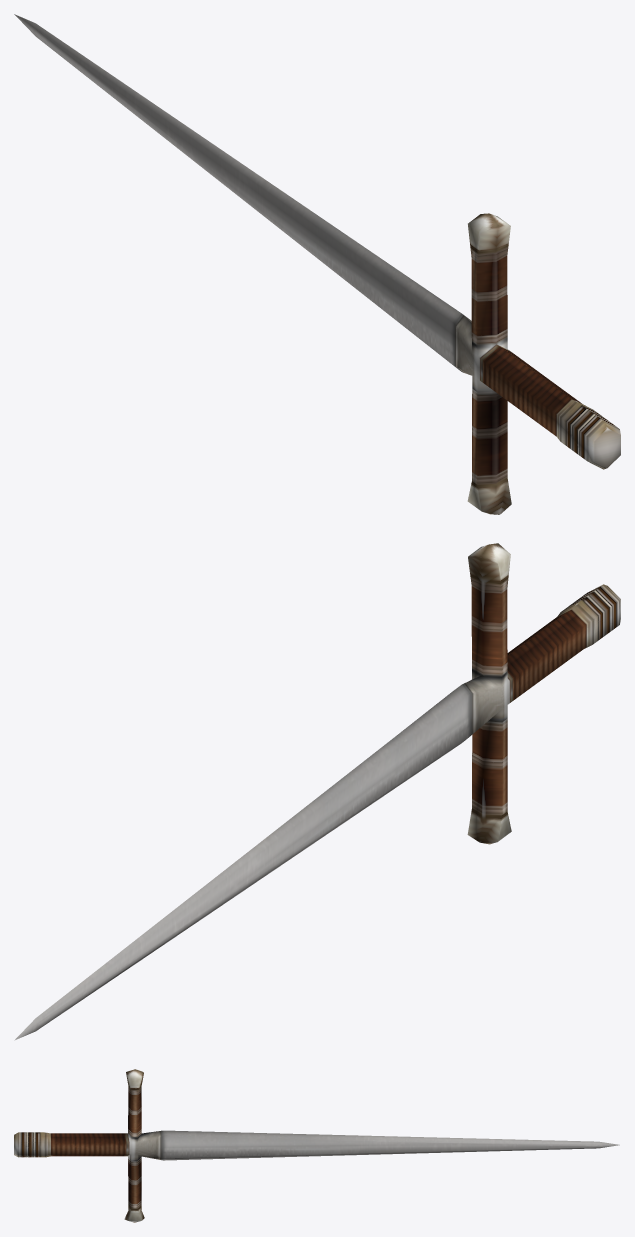
Rendered from sword.obj.
3 views of the same model, one above another, from view 1: azimuth 30°, elevation 25°; view 2: azimuth 150°, elevation 25°; view 3: azimuth 270°, elevation 25° (orthographic). The views are drawn at different scales.
Parts seen in each view (by area): view 1: object; view 2: object; view 3: object.
Boxes of the visible parts, left/top/right/bottom form: object: left=14, top=14, right=620, bottom=514; object: left=14, top=543, right=620, bottom=1040; object: left=14, top=1069, right=619, bottom=1222.
Bounding box in the file's own units: 6.3 × 55.71 × 200.
